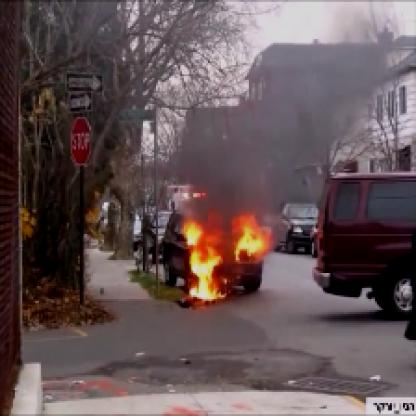Fire: (176, 197, 277, 304)
